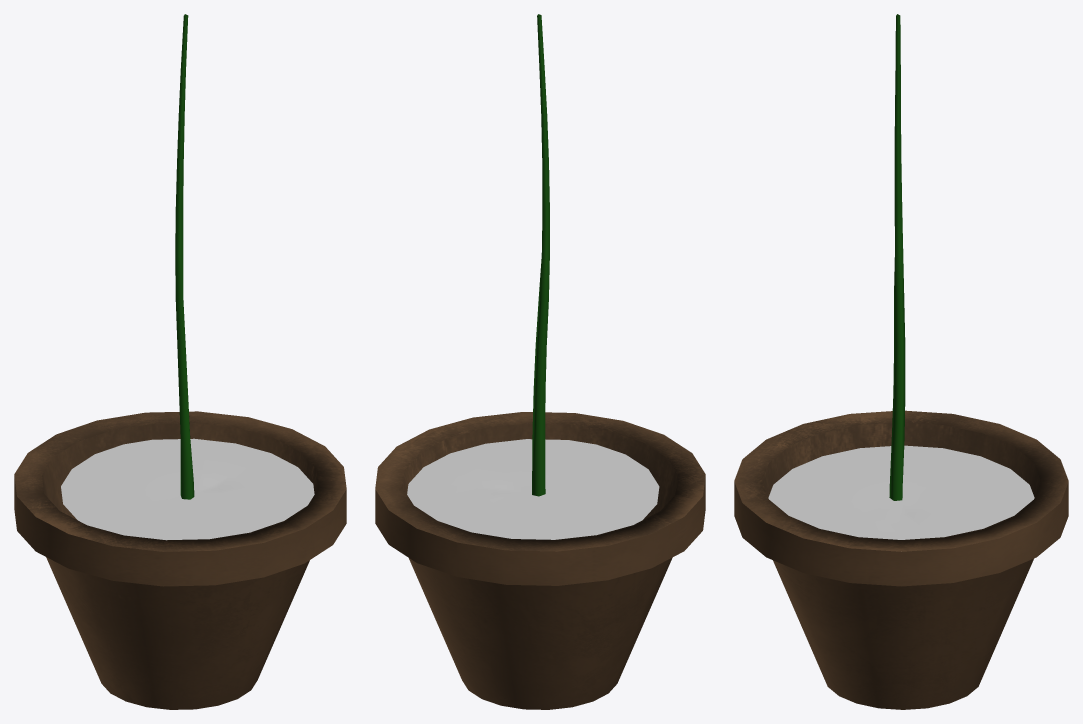
The model's file is planta2.obj.
3 views of the same model, side by side, from view 1: azimuth 30°, elevation 25°; view 2: azimuth 150°, elevation 25°; view 3: azimuth 270°, elevation 25° (orthographic).
Visible parts, largest first — view 1: polySurface14 polySurface50, polySurface14 polySurface36, polySurface34 polySurface14, polySurface14 polySurface52; view 2: polySurface14 polySurface50, polySurface14 polySurface36, polySurface34 polySurface14, polySurface14 polySurface52; view 3: polySurface14 polySurface50, polySurface14 polySurface36, polySurface34 polySurface14, polySurface14 polySurface52.
Part boxes in pixels (x1,y1,x2,y2): polySurface14 polySurface50: (14, 411, 346, 586); polySurface14 polySurface36: (46, 557, 309, 709); polySurface34 polySurface14: (61, 438, 314, 540); polySurface14 polySurface52: (175, 14, 194, 499); polySurface14 polySurface50: (375, 412, 705, 585); polySurface14 polySurface36: (409, 557, 672, 709); polySurface34 polySurface14: (407, 439, 659, 539); polySurface14 polySurface52: (532, 14, 549, 496); polySurface14 polySurface50: (734, 410, 1068, 586); polySurface14 polySurface36: (773, 558, 1033, 709); polySurface34 polySurface14: (768, 445, 1034, 539); polySurface14 polySurface52: (889, 14, 905, 500).
Bounding box in the file's own units: 0.3277 × 0.7168 × 0.3277.
